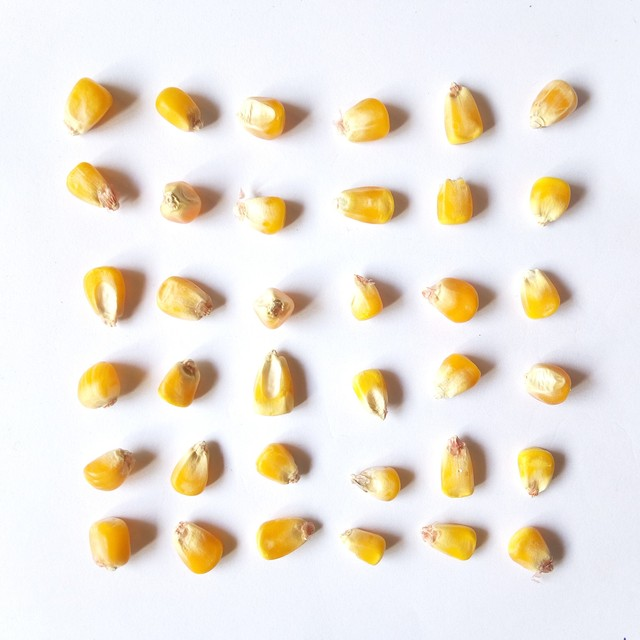maiz: (525, 71, 587, 137), (60, 73, 118, 139), (331, 90, 394, 150), (438, 78, 490, 148), (236, 86, 295, 147), (167, 439, 223, 502), (255, 511, 320, 564), (433, 434, 485, 500), (153, 81, 214, 137), (78, 262, 130, 327), (157, 270, 222, 322), (169, 519, 228, 576), (253, 349, 301, 418), (422, 518, 488, 568), (332, 182, 403, 228), (506, 523, 561, 582), (348, 362, 399, 425), (63, 158, 120, 214), (229, 187, 294, 236), (153, 356, 208, 412), (515, 359, 579, 407), (418, 277, 483, 324), (86, 514, 137, 573), (510, 439, 559, 500), (521, 173, 575, 228), (430, 350, 486, 403), (71, 358, 126, 411), (514, 263, 564, 321), (432, 174, 478, 234), (84, 447, 141, 495), (154, 174, 206, 225), (253, 437, 305, 485), (250, 284, 298, 331), (338, 525, 391, 566), (350, 464, 408, 501), (344, 271, 386, 322)
